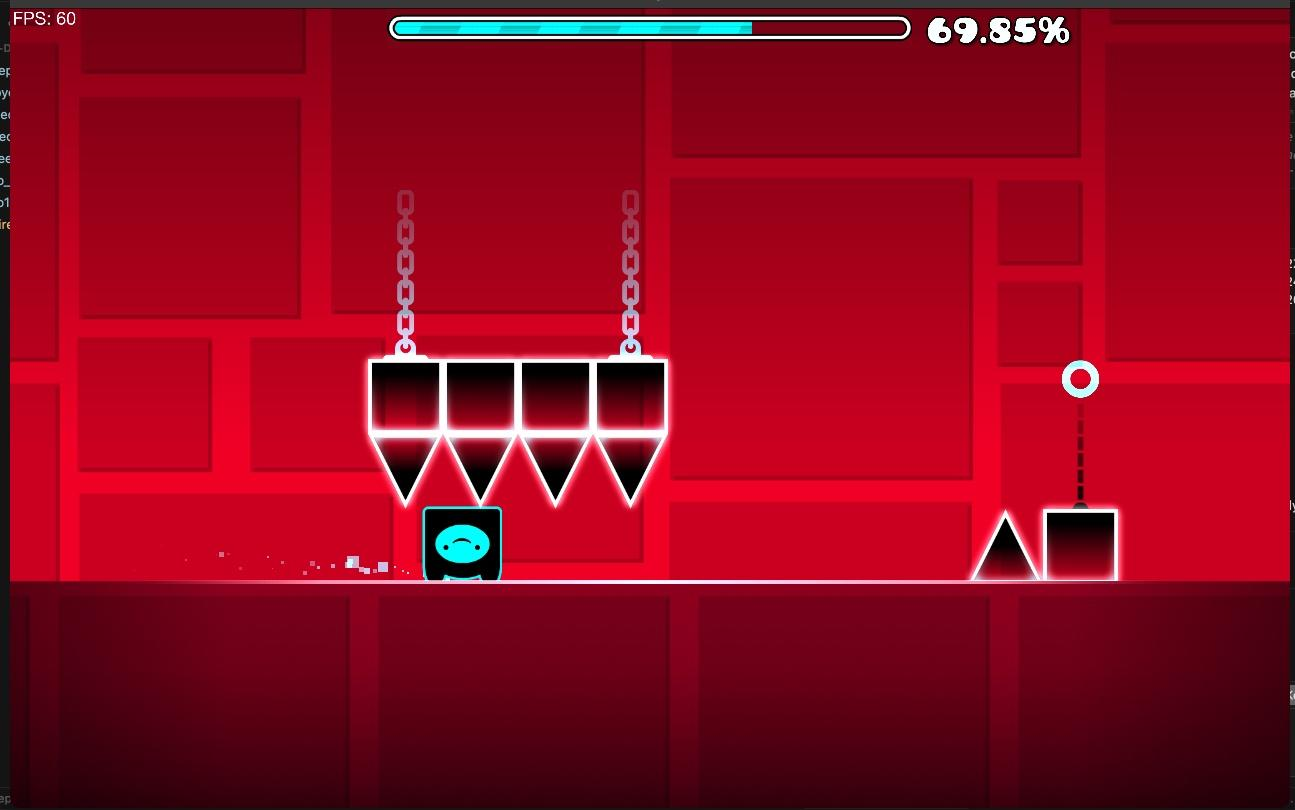block: (1043, 508, 1117, 578)
player: (422, 507, 500, 578)
spike: (371, 360, 673, 505), (971, 512, 1039, 580)
